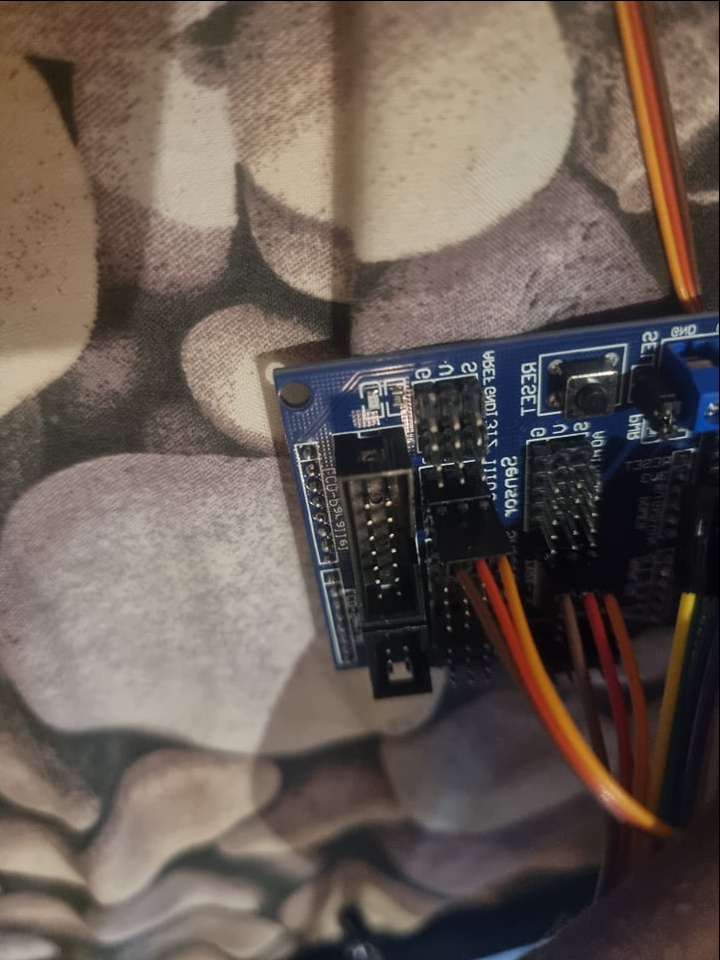5V EXPANSION: (271, 315, 720, 701)
